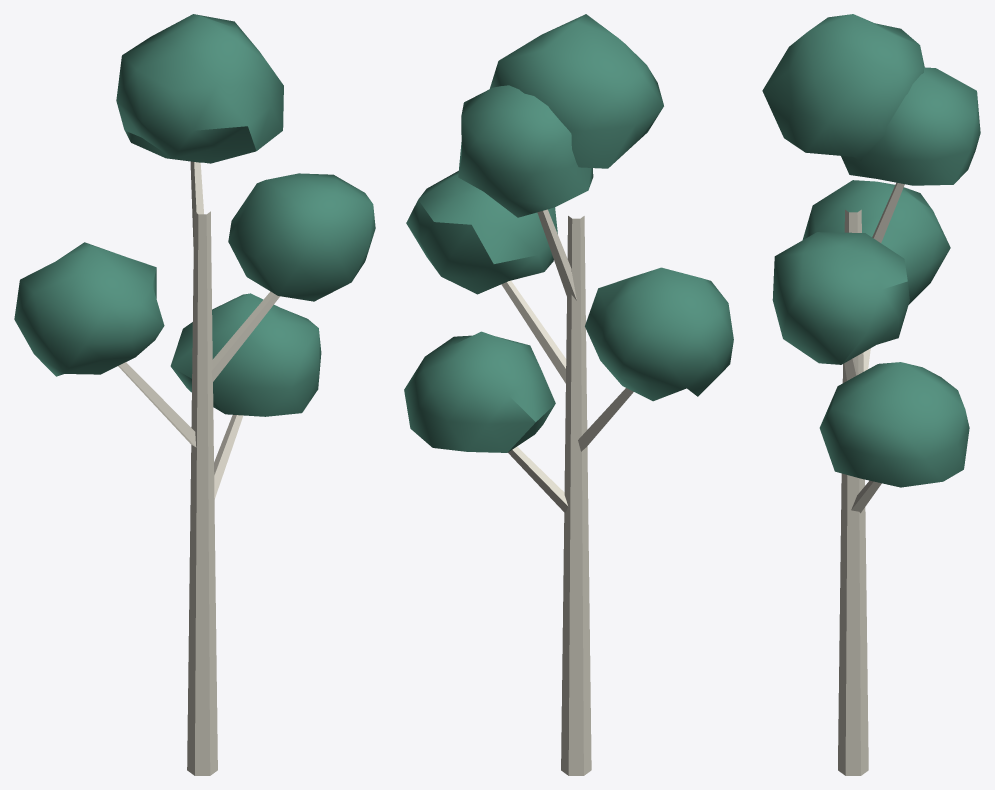
Rendered from tree_eucalyptus.glb.
3 views of the same model, side by side, from view 1: azimuth 30°, elevation 25°; view 2: azimuth 150°, elevation 25°; view 3: azimuth 270°, elevation 25° (orthographic).
Visible parts, largest first — view 1: tree_eucalyptus; view 2: tree_eucalyptus; view 3: tree_eucalyptus.
Boxes of the visible parts, x1,y1,x2,y2 form: tree_eucalyptus: (14, 14, 375, 775); tree_eucalyptus: (404, 14, 733, 775); tree_eucalyptus: (762, 14, 980, 775).
Size of the model in its own units: 3.2 by 7.01 by 1.83.
1 material, 1 textured.
